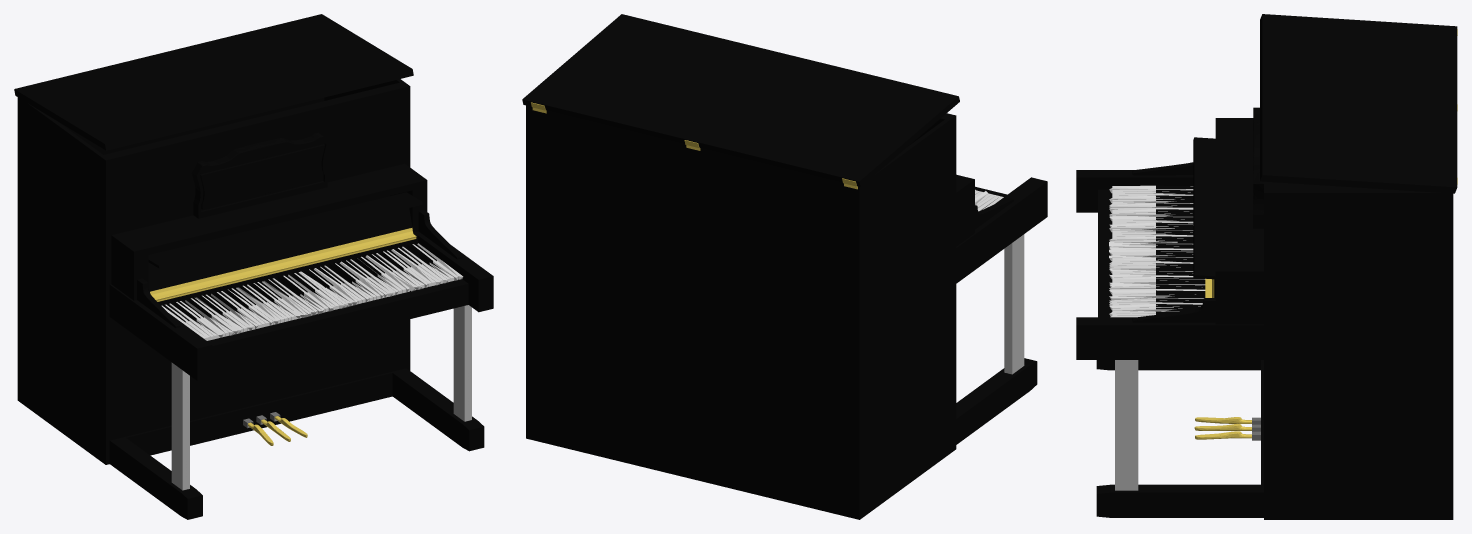
File: sh-bsby-piano.glb
3 views of the same model, side by side, from view 1: azimuth 30°, elevation 25°; view 2: azimuth 150°, elevation 25°; view 3: azimuth 270°, elevation 25° (orthographic). The views are drawn at different scales.
Parts seen in each view (by area): view 1: Cube.005_Cube.004, Cube.002, Cube.013, Cube.009; view 2: Cube.005_Cube.004, Cube.013; view 3: Cube.005_Cube.004, Cube.002, Cube.013, Cube.009.
Boxes of the visible parts, box(x1,y1,x2,y2) form: Cube.005_Cube.004: box(14, 14, 493, 519); Cube.002: box(161, 243, 463, 340); Cube.013: box(171, 305, 471, 490); Cube.009: box(150, 228, 416, 445); Cube.005_Cube.004: box(522, 14, 1047, 519); Cube.013: box(1004, 234, 1024, 374); Cube.005_Cube.004: box(1076, 14, 1457, 519); Cube.002: box(1109, 185, 1205, 317); Cube.013: box(1115, 360, 1138, 490); Cube.009: box(1194, 29, 1457, 439).
Size of the model in its own units: 1 by 1 by 1.
